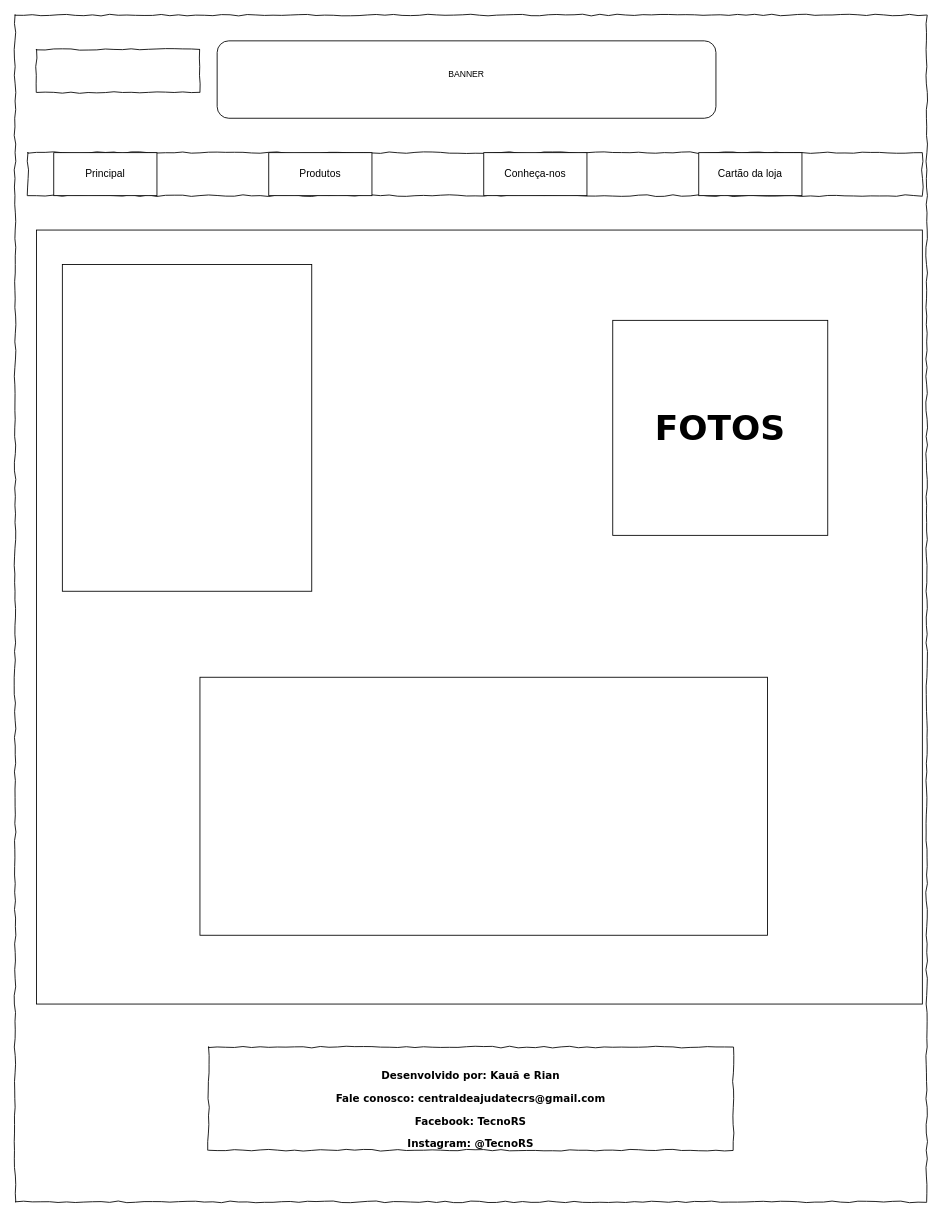
The diagram is 942 pixels wide and 1217 high, and some of its shapes have lost their labels. Each missing label, with the centre of its shape:
"LANÇAMENTOS!" belongs at point 186,427.
"TecnoRS" belongs at point 118,70.
"VÍDEO" belongs at point 483,805.
